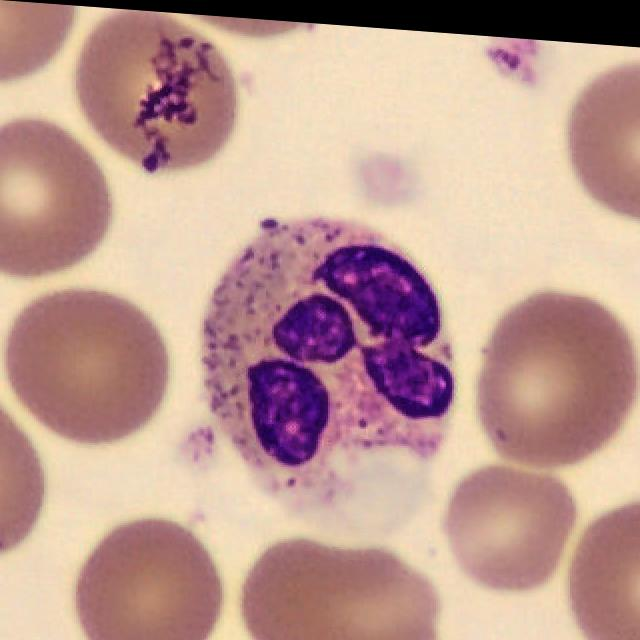Neutrofilo segmentado: (202, 212, 458, 501)
